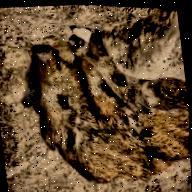boar: (24, 30, 109, 190)
